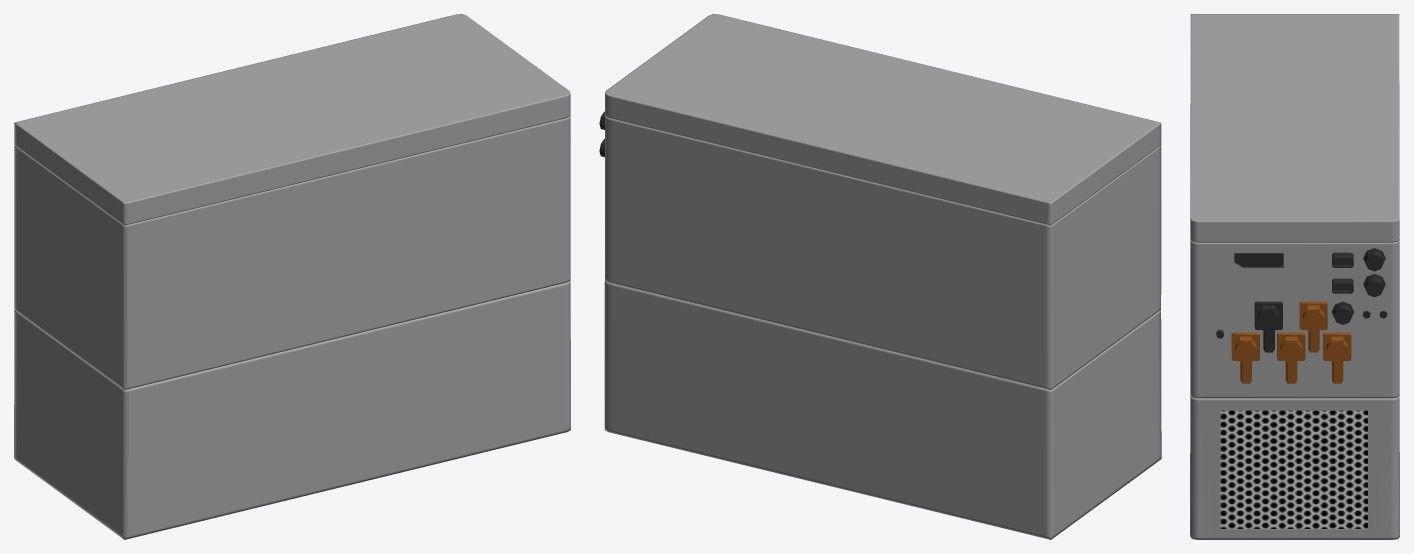
File: PCS.glb
The picture shows the model from 3 angles, left to right: view 1: azimuth 30°, elevation 25°; view 2: azimuth 150°, elevation 25°; view 3: azimuth 270°, elevation 25°; orthographic projection. The views are drawn at different scales.
Visible parts, largest first — view 1: PCS; view 2: PCS; view 3: PCS.
Boxes of the visible parts, x1,y1,x2,y2 form: PCS: [14, 14, 570, 539]; PCS: [599, 14, 1161, 539]; PCS: [1190, 14, 1399, 539].
Size of the model in its own units: 0.8622 by 0.5969 by 0.3564.
Materials: 4 (1 with a texture image).
